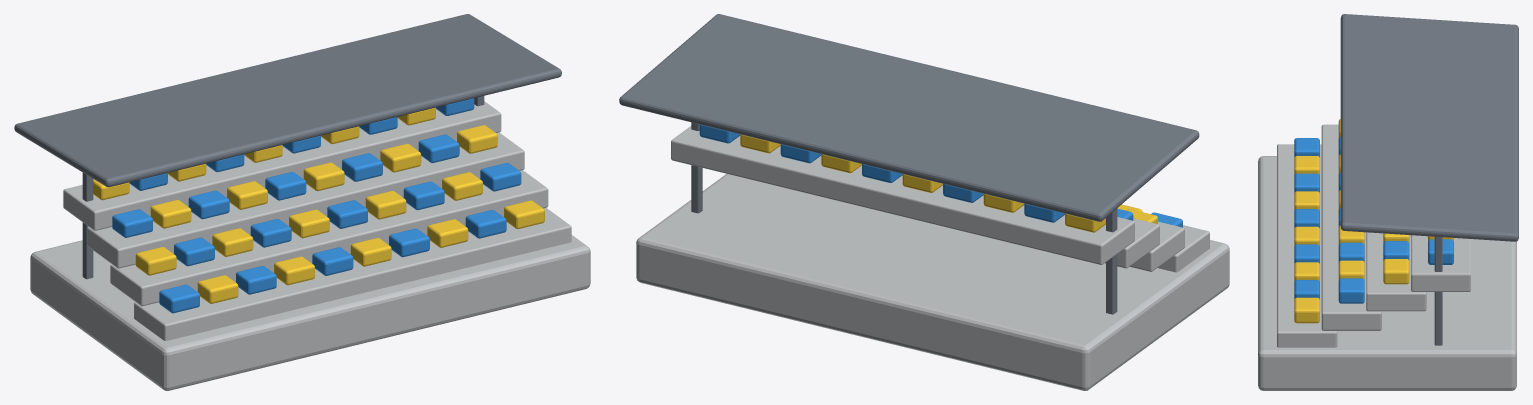
Rendered from grandstand.glb.
3 renders of one model, left to right at view 1: azimuth 30°, elevation 25°; view 2: azimuth 150°, elevation 25°; view 3: azimuth 270°, elevation 25°, orthographic. The views are drawn at different scales.
Parts seen in each view (by area): view 1: Roof, Base, Step_0, Step_1, Step_2, Step_3, Seat_1_0, Seat_0_8, Seat_1_3, Seat_2_7, Seat_0_4, Seat_1_9 (+26 smaller); view 2: Base, Roof, Step_3, Step_1, Step_2, Step_0, RoofPost, RoofPost.001; view 3: Roof, Base, Step_1, Step_0, Step_2, Step_3, RoofPost.001, Seat_1_9, Seat_2_9, Seat_0_9, Seat_1_8, Seat_1_7 (+12 smaller).
Part boxes in pixels (left/top/right/bottom): Roof: left=14, top=14, right=561, bottom=187; Base: left=30, top=235, right=590, bottom=390; Step_0: left=134, top=208, right=571, bottom=340; Step_1: left=110, top=170, right=548, bottom=306; Step_2: left=87, top=132, right=524, bottom=268; Step_3: left=63, top=101, right=501, bottom=230; Seat_1_0: left=135, top=247, right=176, bottom=275; Seat_0_8: left=465, top=210, right=506, bottom=238; Seat_1_3: left=250, top=219, right=291, bottom=247; Seat_2_7: left=380, top=143, right=421, bottom=172; Seat_0_4: left=312, top=247, right=353, bottom=275; Seat_1_9: left=480, top=162, right=521, bottom=191; Base: left=636, top=174, right=1229, bottom=390; Roof: left=619, top=14, right=1199, bottom=221; Step_3: left=671, top=126, right=1134, bottom=264; Step_1: left=1129, top=221, right=1184, bottom=271; Step_2: left=1105, top=218, right=1159, bottom=268; Step_0: left=1158, top=225, right=1209, bottom=272; RoofPost: left=1106, top=208, right=1117, bottom=314; RoofPost.001: left=691, top=122, right=702, bottom=213; Roof: left=1340, top=14, right=1518, bottom=241; Base: left=1258, top=156, right=1516, bottom=390; Step_1: left=1321, top=124, right=1381, bottom=330; Step_0: left=1277, top=144, right=1337, bottom=347; Step_2: left=1366, top=232, right=1426, bottom=311; Step_3: left=1411, top=235, right=1470, bottom=291; RoofPost.001: left=1434, top=236, right=1442, bottom=345; Seat_1_9: left=1338, top=278, right=1364, bottom=303; Seat_2_9: left=1383, top=259, right=1409, bottom=284; Seat_0_9: left=1294, top=297, right=1319, bottom=323; Seat_1_8: left=1338, top=260, right=1364, bottom=280; Seat_1_7: left=1338, top=242, right=1364, bottom=262.
Size of the model in its own units: 11.2 by 4.33 by 5.85.
